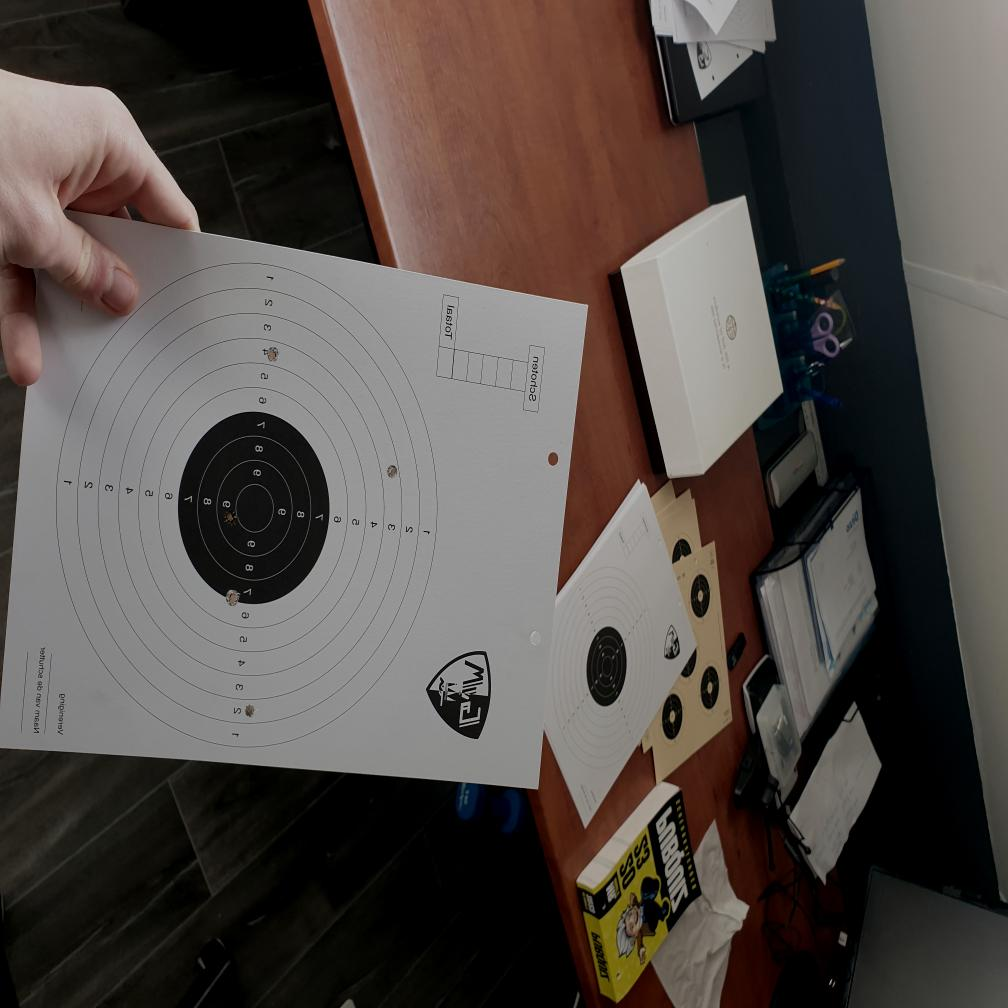10: (224, 507, 240, 527)
2: (242, 701, 258, 720)
3: (387, 464, 400, 478)
4: (267, 346, 279, 363)
7: (225, 589, 241, 606)
Target: (54, 257, 438, 746)
black_contour: (178, 410, 330, 603)
